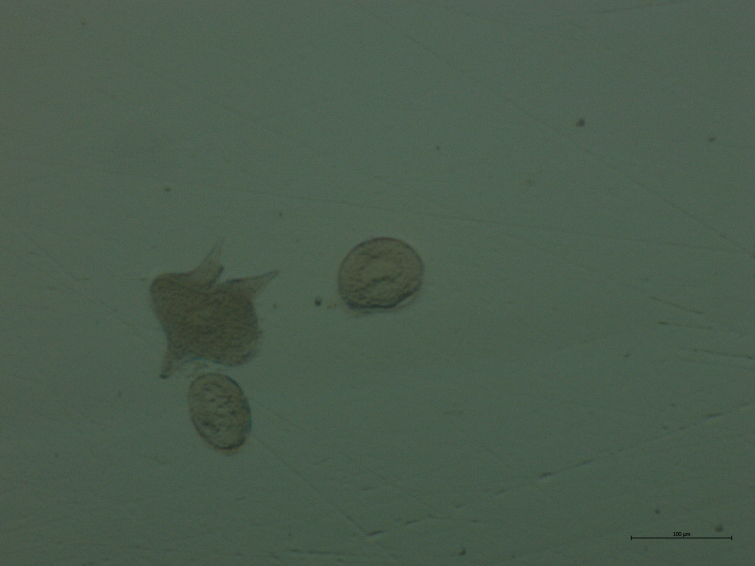oyster: (330, 229, 429, 322)
